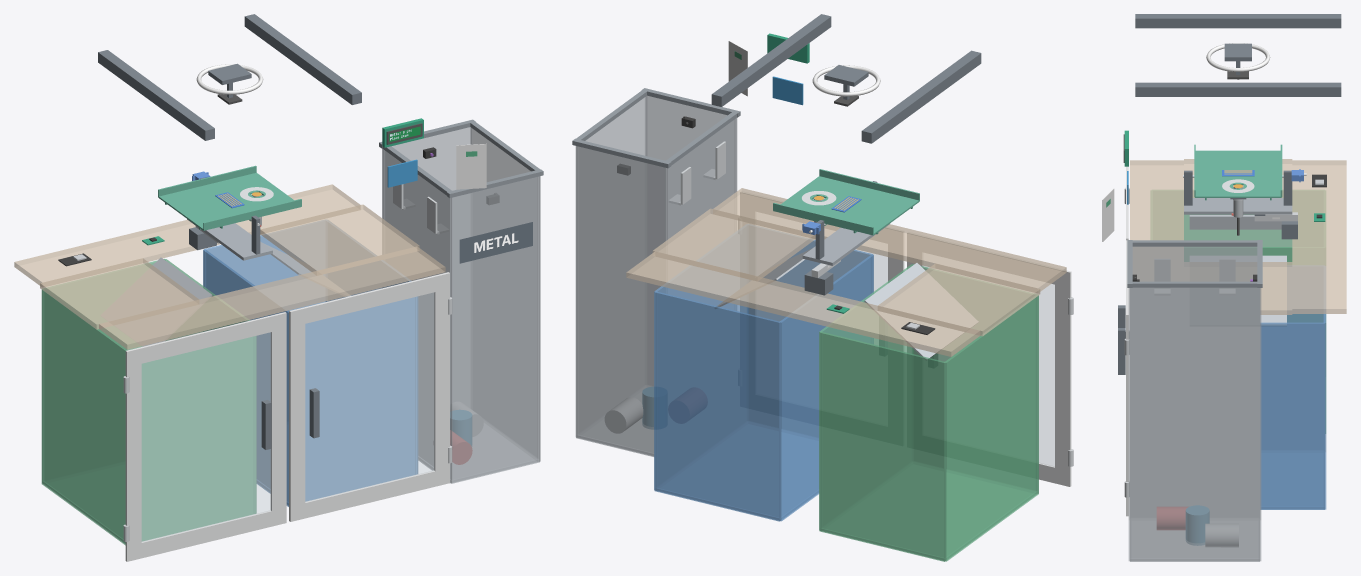
File: metal_tray.glb
3 views of the same model, side by side, from view 1: azimuth 30°, elevation 25°; view 2: azimuth 150°, elevation 25°; view 3: azimuth 270°, elevation 25° (orthographic). The views are drawn at different scales.
Visible parts, largest first — view 1: Metal_Tray, WET_bin, L_brackets_to_cabinet_wall, DRY_bin, Sorting_flap_200_x_160_metal_spot_added_, Lid_6_mm_plywood, LCD_1, RFID_reader; view 2: WET_bin, Metal_Tray, DRY_bin, L_brackets_to_cabinet_wall, Sorting_flap_200_x_160_metal_spot_added_, Lid_6_mm_plywood, RFID_reader; view 3: L_brackets_to_cabinet_wall, Metal_Tray, DRY_bin, WET_bin, Lid_6_mm_plywood, Sorting_flap_200_x_160_metal_spot_added_, Inductive_sensor_LJ18A3_8_5V_.
Part boxes in pixels (box(x1,y1,x2,y2)): Metal_Tray: box(14, 63, 486, 561); WET_bin: box(41, 258, 256, 545); L_brackets_to_cabinet_wall: box(379, 119, 543, 483); DRY_bin: box(203, 220, 418, 506); Sorting_flap_200_x_160_metal_spot_added_: box(158, 165, 301, 230); Lid_6_mm_plywood: box(98, 14, 361, 140); LCD_1: box(382, 118, 423, 147); RFID_reader: box(387, 159, 417, 187); WET_bin: box(819, 264, 1038, 561); Metal_Tray: box(626, 41, 1073, 486); DRY_bin: box(654, 224, 873, 521); L_brackets_to_cabinet_wall: box(572, 88, 740, 456); Sorting_flap_200_x_160_metal_spot_added_: box(773, 169, 919, 235); Lid_6_mm_plywood: box(711, 14, 981, 143); RFID_reader: box(772, 76, 803, 105); L_brackets_to_cabinet_wall: box(1127, 240, 1262, 561); Metal_Tray: box(1102, 43, 1346, 516); DRY_bin: box(1260, 266, 1326, 509); WET_bin: box(1151, 190, 1325, 433); Lid_6_mm_plywood: box(1135, 14, 1341, 96); Sorting_flap_200_x_160_metal_spot_added_: box(1183, 144, 1283, 200); Inductive_sensor_LJ18A3_8_5V_: box(1230, 184, 1246, 235).
Size of the model in its own units: 858 by 800 by 451.
45 materials, 2 textured.
